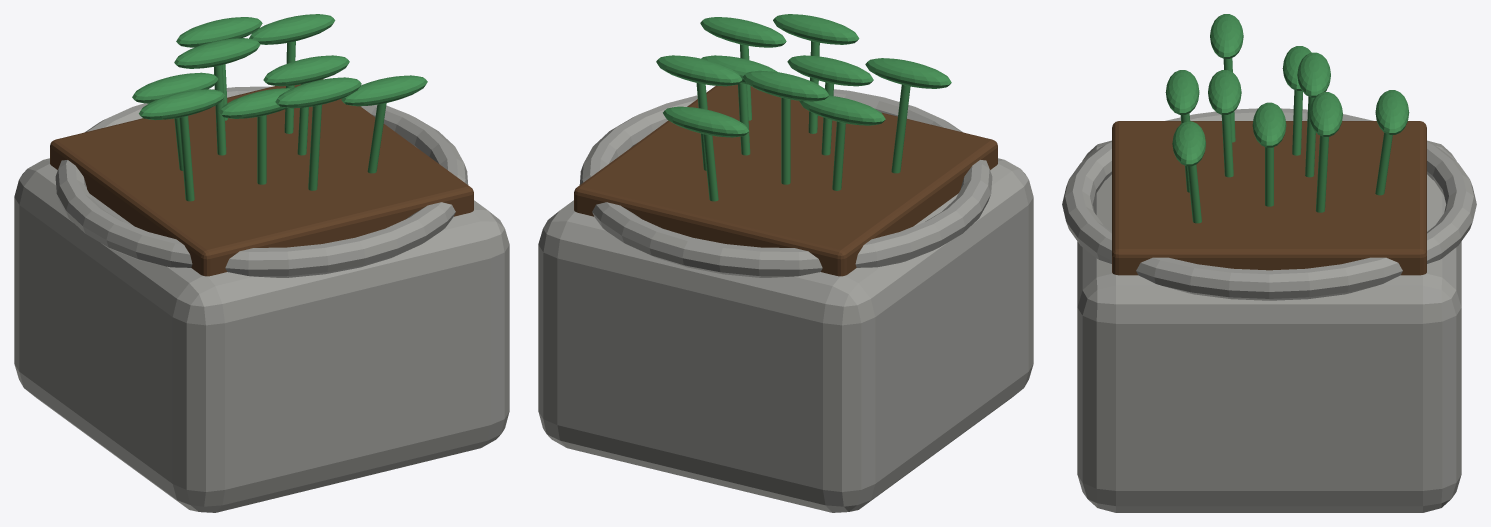
Rendered from prop_starline_planter_a_v01.glb.
3 renders of one model, left to right at view 1: azimuth 30°, elevation 25°; view 2: azimuth 150°, elevation 25°; view 3: azimuth 270°, elevation 25°, orthographic.
Visible parts, largest first — view 1: component__outer_planter_body__outer_planter_body, component__inner_soil_volume__inner_soil_volume, component__rim__rim, component__planting__plant_leaf.008, component__planting__plant_leaf.001, component__planting__plant_leaf.004, component__planting__plant_leaf.006, component__planting__plant_leaf.002, component__planting__plant_leaf, component__planting__plant_leaf.003, component__planting__plant_leaf.005, component__planting__plant_leaf.007 (+5 smaller); view 2: component__outer_planter_body__outer_planter_body, component__inner_soil_volume__inner_soil_volume, component__rim__rim, component__planting__plant_leaf.002, component__planting__plant_leaf.008, component__planting__plant_leaf.003, component__planting__plant_leaf.004, component__planting__plant_leaf.007, component__planting__plant_leaf, component__planting__plant_leaf.006, component__planting__plant_leaf.005, component__planting__plant_stem.004 (+5 smaller); view 3: component__outer_planter_body__outer_planter_body, component__inner_soil_volume__inner_soil_volume, component__rim__rim, component__planting__plant_leaf.001, component__planting__plant_leaf.007, component__planting__plant_leaf.003, component__planting__plant_leaf.006, component__planting__plant_leaf.008, component__planting__plant_leaf, component__planting__plant_leaf.002, component__planting__plant_leaf.004, component__planting__plant_stem.002 (+7 smaller).
Boxes of the visible parts, x1,y1,x2,y2 form: component__outer_planter_body__outer_planter_body: (14,158,509,512); component__inner_soil_volume__inner_soil_volume: (50,79,473,276); component__rim__rim: (55,86,468,277); component__planting__plant_leaf.008: (275,77,361,108); component__planting__plant_leaf.001: (263,55,349,86); component__planting__plant_leaf.004: (174,38,260,68); component__planting__plant_leaf.006: (139,89,224,120); component__planting__plant_leaf.002: (249,14,335,44); component__planting__plant_leaf: (341,75,427,106); component__planting__plant_leaf.003: (176,17,262,47); component__planting__plant_leaf.005: (132,72,218,103); component__planting__plant_leaf.007: (218,88,291,118); component__outer_planter_body__outer_planter_body: (538,158,1033,512); component__inner_soil_volume__inner_soil_volume: (574,84,997,276); component__rim__rim: (579,89,992,277); component__planting__plant_leaf.002: (656,55,742,86); component__planting__plant_leaf.008: (773,14,859,44); component__planting__plant_leaf.003: (663,106,748,137); component__planting__plant_leaf.004: (743,70,828,101); component__planting__plant_leaf.007: (787,55,873,86); component__planting__plant_leaf: (700,17,786,47); component__planting__plant_leaf.006: (865,58,951,88); component__planting__plant_leaf.005: (799,95,885,125); component__planting__plant_stem.004: (781,98,790,184); component__outer_planter_body__outer_planter_body: (1077,140,1461,512); component__inner_soil_volume__inner_soil_volume: (1112,121,1426,275); component__rim__rim: (1062,108,1476,300); component__planting__plant_leaf.001: (1252,102,1286,147); component__planting__plant_leaf.007: (1208,70,1241,114); component__planting__plant_leaf.003: (1375,90,1409,134); component__planting__plant_leaf.006: (1210,14,1243,58); component__planting__plant_leaf.008: (1165,70,1199,114); component__planting__plant_leaf: (1172,121,1205,166); component__planting__plant_leaf.002: (1309,92,1342,136); component__planting__plant_leaf.004: (1297,52,1330,97); component__planting__plant_stem.002: (1315,135,1328,212).
Bounding box in the file's own units: 1.08 × 1.06 × 1.08.
